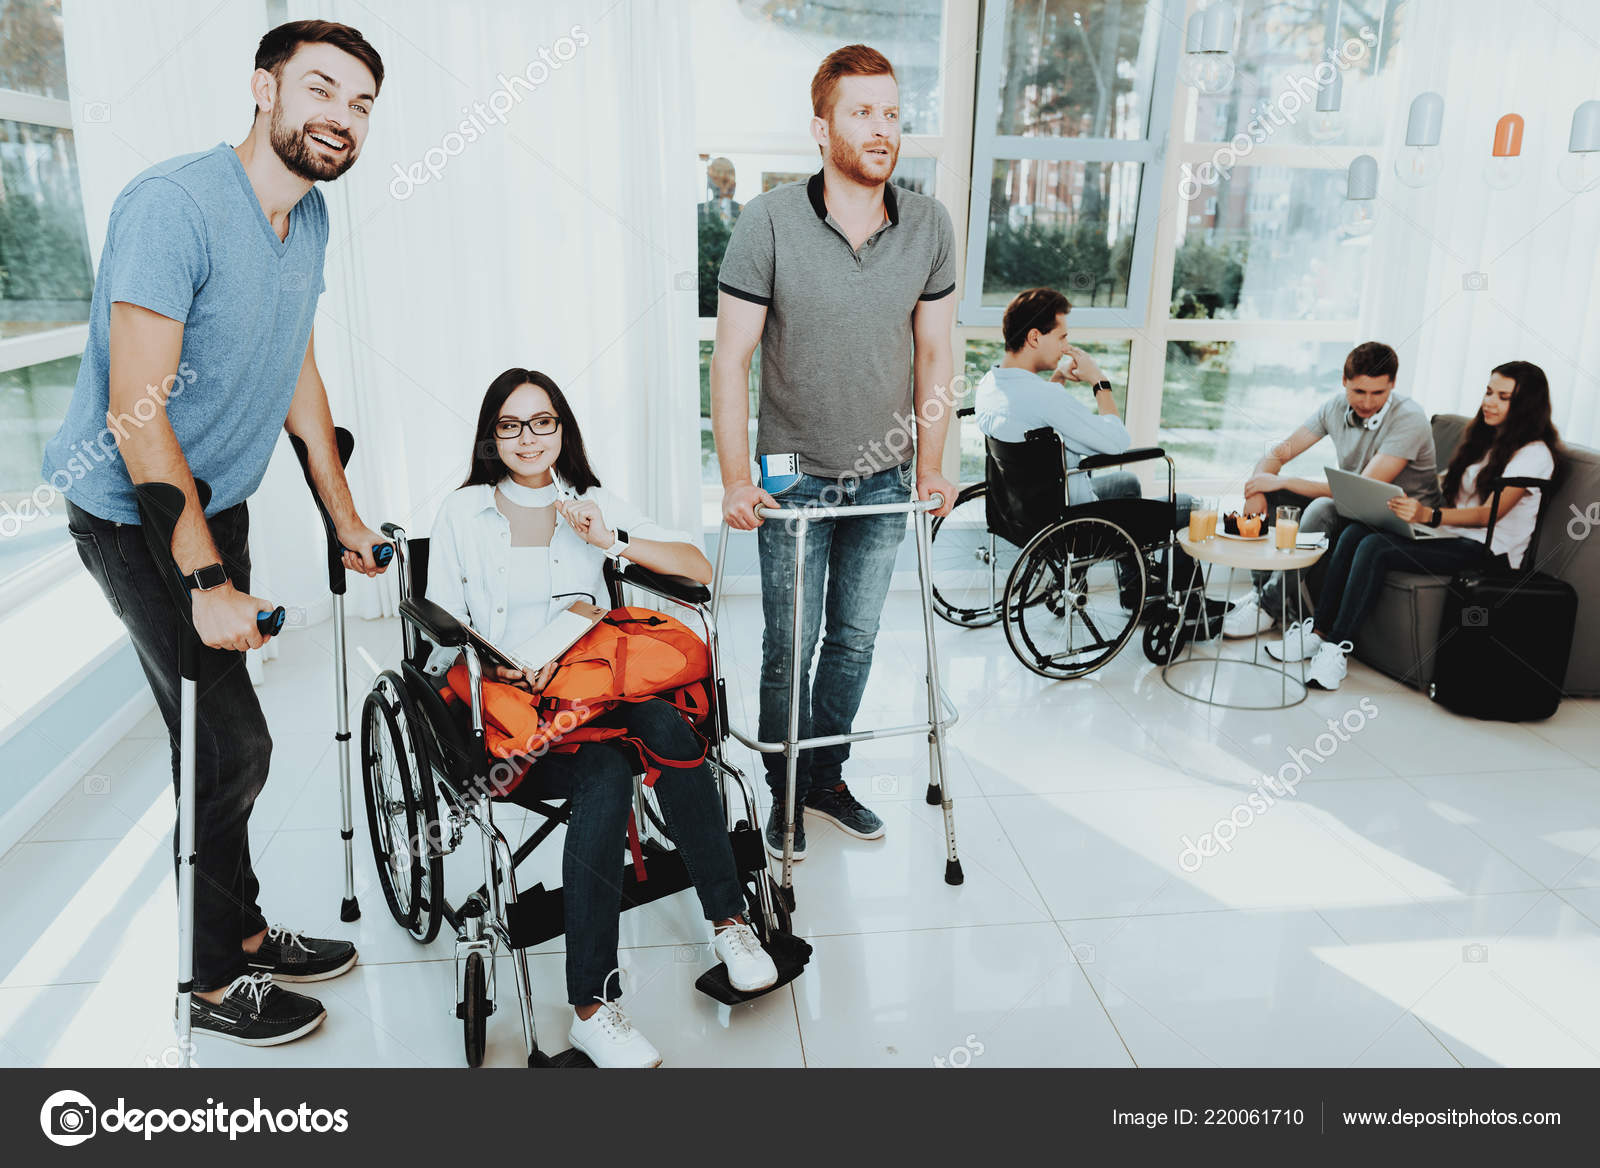crutches: (40, 17, 393, 1064)
wheelchair: (361, 369, 814, 1070), (924, 287, 1201, 683)
